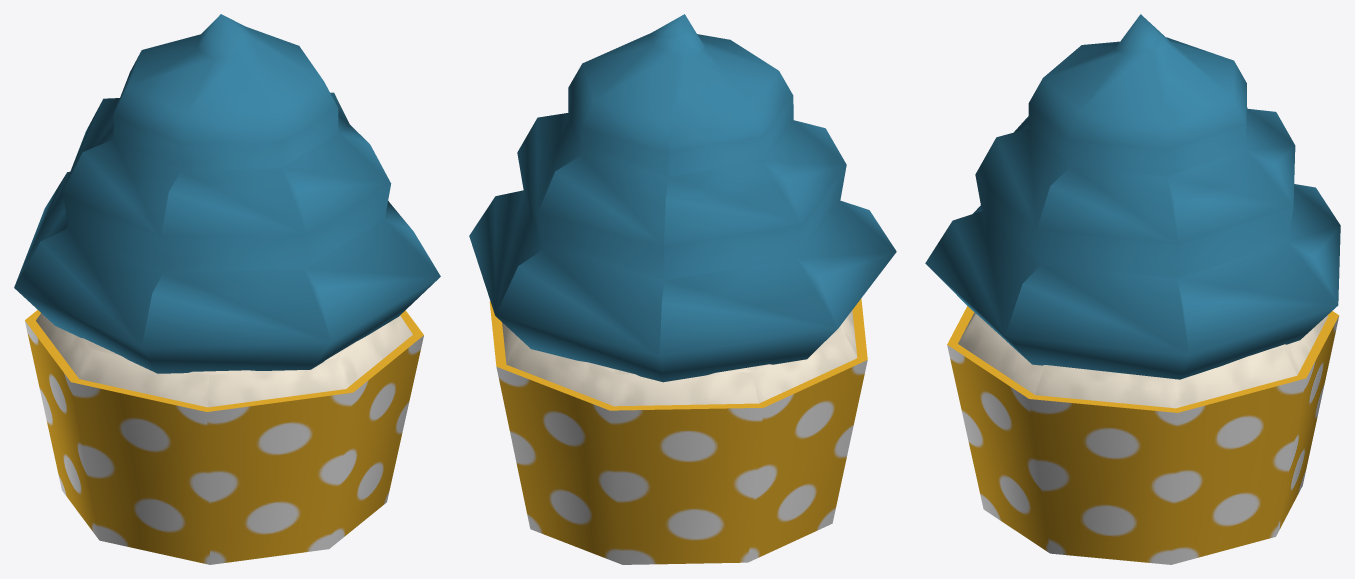
File: Cupcake_A_13.FBX
The picture shows the model from 3 angles, left to right: view 1: azimuth 30°, elevation 25°; view 2: azimuth 150°, elevation 25°; view 3: azimuth 270°, elevation 25°; orthographic projection.
Visible parts, largest first — view 1: Cupcake; view 2: Cupcake; view 3: Cupcake.
Boxes of the visible parts, left/top/right/bottom form: Cupcake: left=14, top=14, right=440, bottom=564; Cupcake: left=469, top=14, right=896, bottom=564; Cupcake: left=925, top=14, right=1340, bottom=564.
Bounding box in the file's own units: 34.42 × 43.01 × 33.65.
